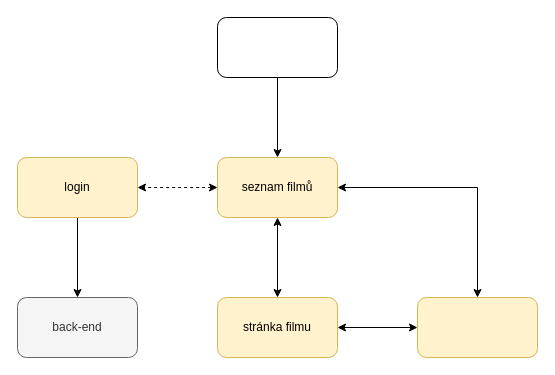
Image size: 555x375. Some labels were removed from this diagram. Each missing label, with the centre of its shape:
"start" goes at (x=277, y=47).
"stránka osoby" goes at (x=477, y=327).
